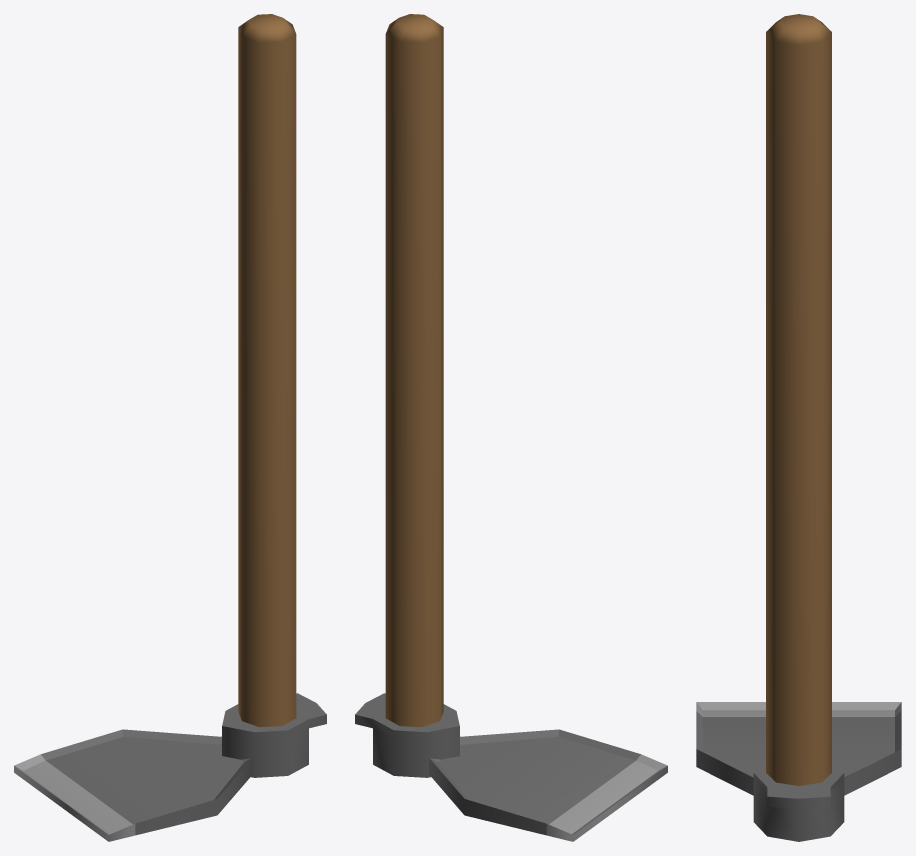
File: enxadaAgro.fbx
3 renders of one model, left to right at view 1: azimuth 30°, elevation 25°; view 2: azimuth 150°, elevation 25°; view 3: azimuth 270°, elevation 25°, orthographic. The views are drawn at different scales.
Visible parts, largest first — view 1: Cube; view 2: Cube; view 3: Cube.
Part boxes in pixels (x1=…): Cube: x1=14, y1=14, x2=326, y2=841; Cube: x1=355, y1=14, x2=667, y2=841; Cube: x1=696, y1=14, x2=901, y2=841.
Size of the model in its own units: 315 by 871 by 202.
